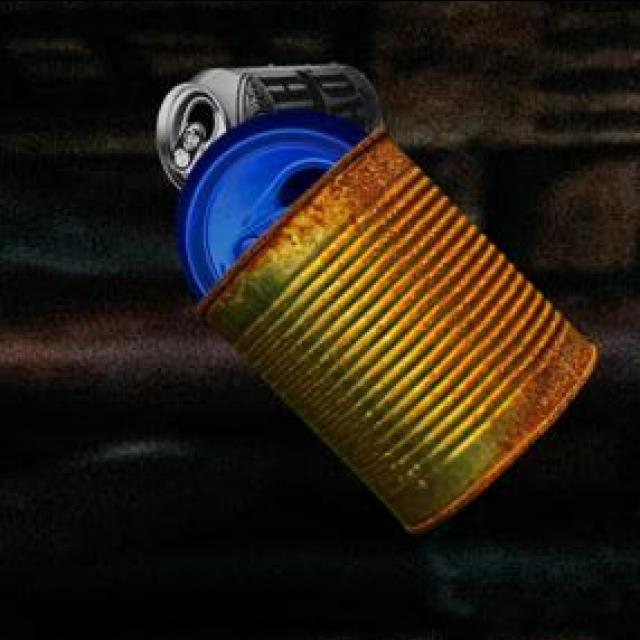logam: (194, 124, 594, 529), (173, 106, 366, 297), (153, 59, 382, 185)
